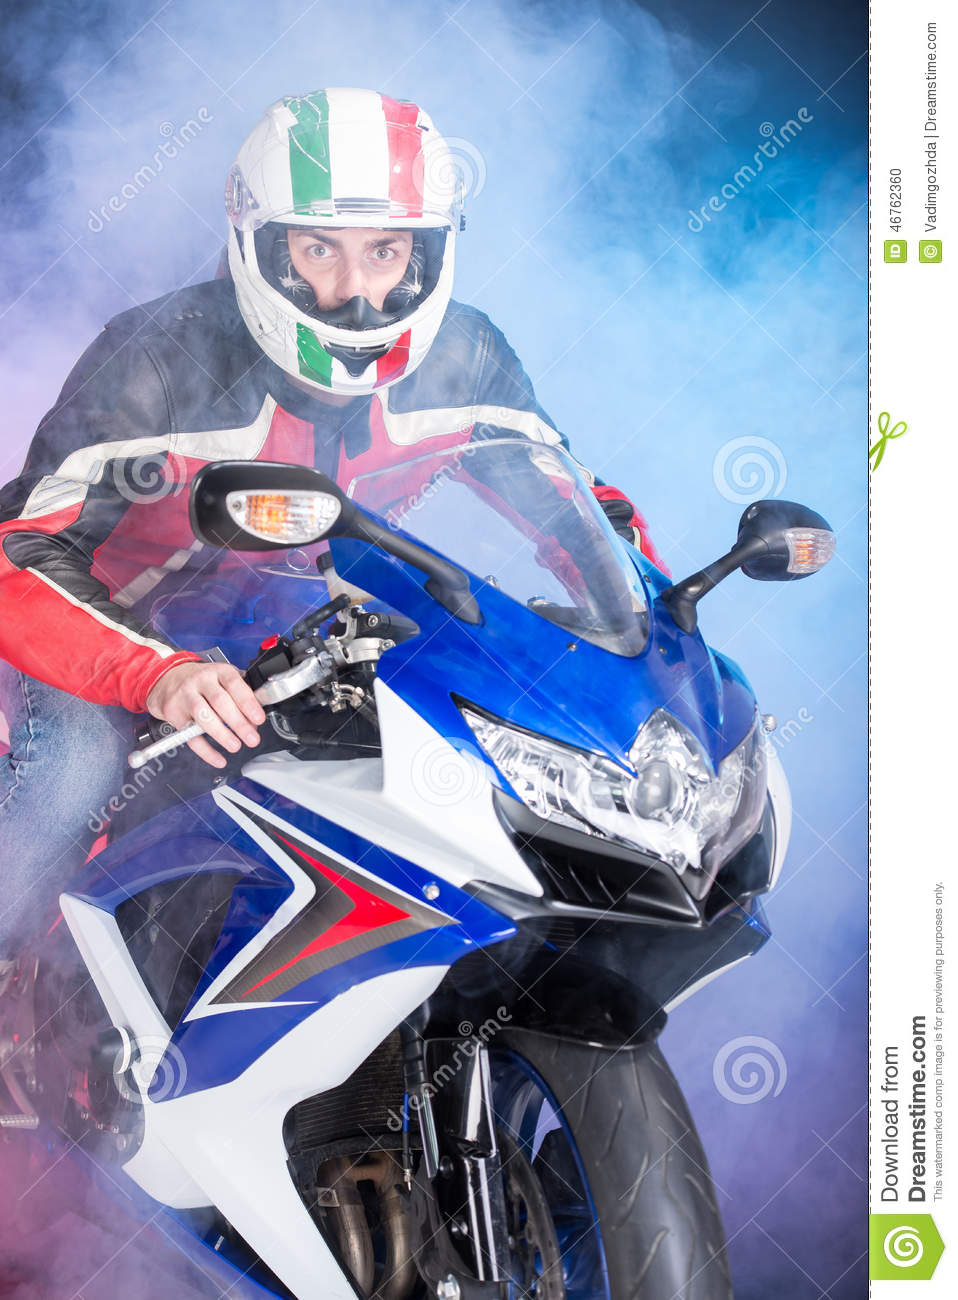helmet: (227, 87, 465, 415)
